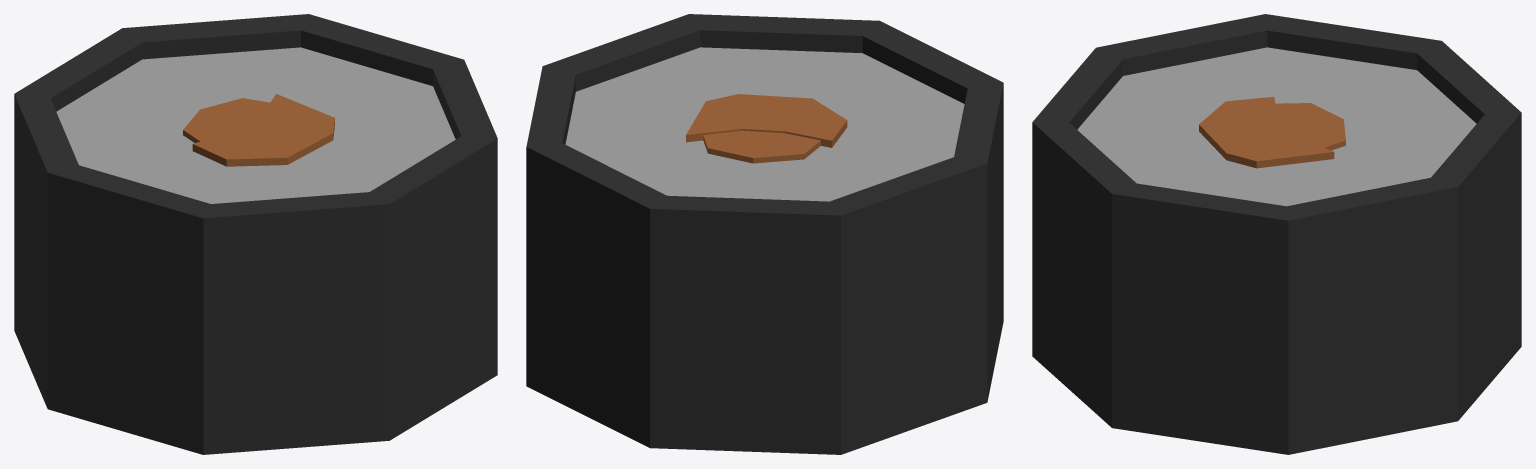
Rendered from Sushi_Roll1.glb.
3 views of the same model, side by side, from view 1: azimuth 30°, elevation 25°; view 2: azimuth 150°, elevation 25°; view 3: azimuth 270°, elevation 25° (orthographic). The views are drawn at different scales.
Parts seen in each view (by area): view 1: DarkGrey, White, Orange; view 2: DarkGrey, White, Orange; view 3: DarkGrey, White, Orange.
Part boxes in pixels (x1,y1,x2,y2): DarkGrey: (14,14,497,454); White: (56,47,455,203); Orange: (183,94,334,166); DarkGrey: (526,14,1003,454); White: (565,47,964,201); Orange: (686,94,847,163); DarkGrey: (1032,14,1521,454); White: (1077,47,1476,206); Orange: (1199,97,1345,168).
Bounding box in the file's own units: 0.2923 × 0.1543 × 0.2923.
